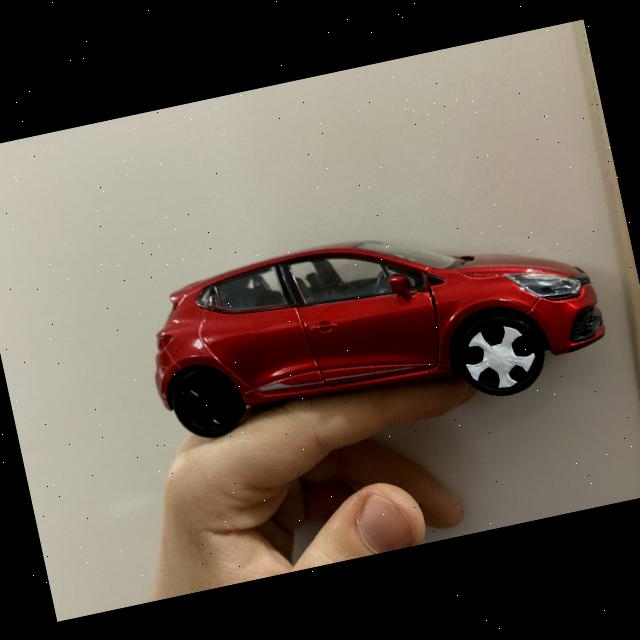Dogru_Jant: (174, 370, 237, 434)
Yanlis_Jant: (458, 318, 541, 397)
